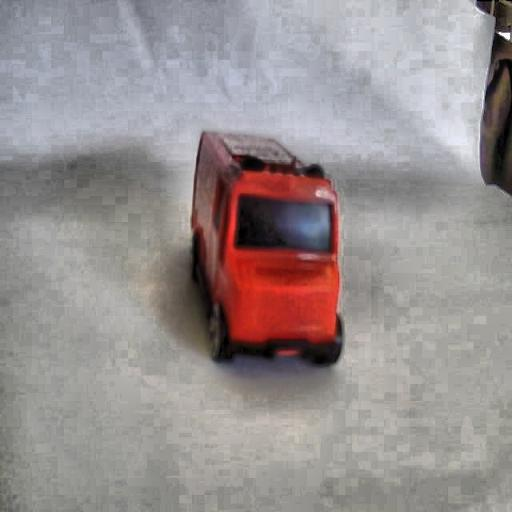fire_truck: (185, 126, 346, 368)
